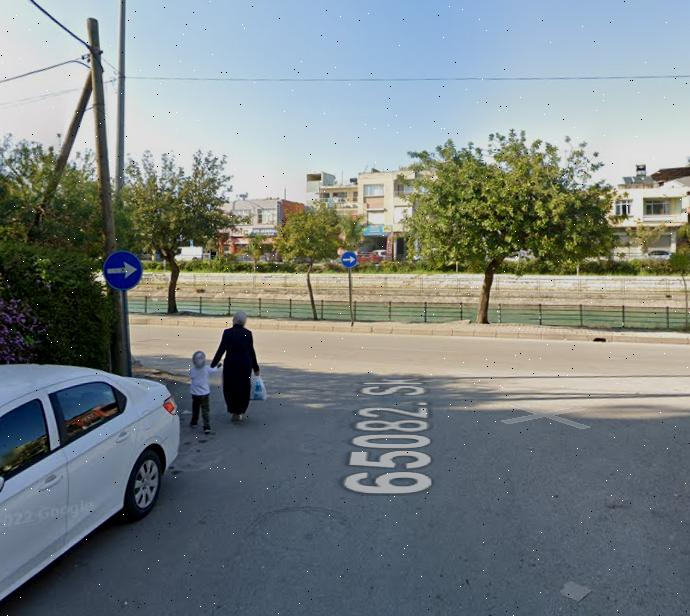turnright: (102, 254, 144, 287)
